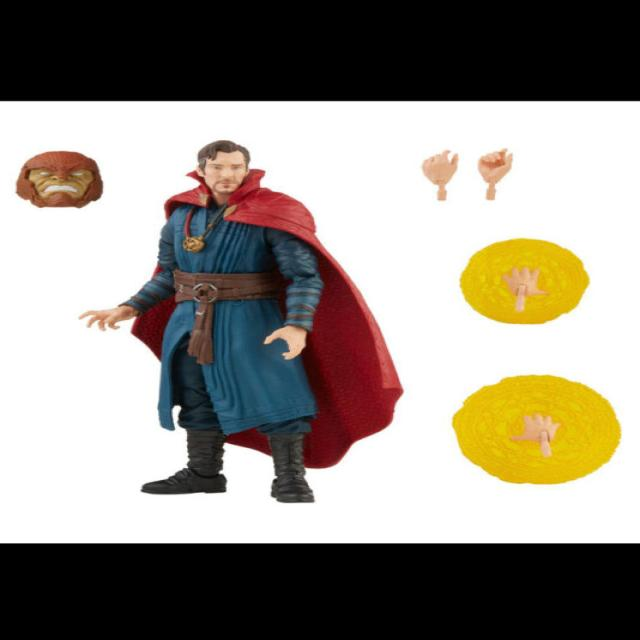doctor_strange: (120, 144, 376, 463)
